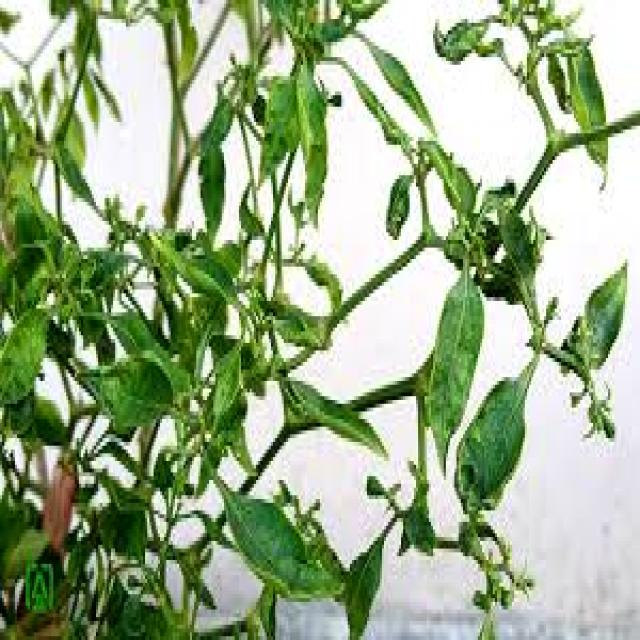Nutirtion_deficie: (0, 55, 350, 639), (353, 73, 640, 487), (439, 0, 640, 143)
